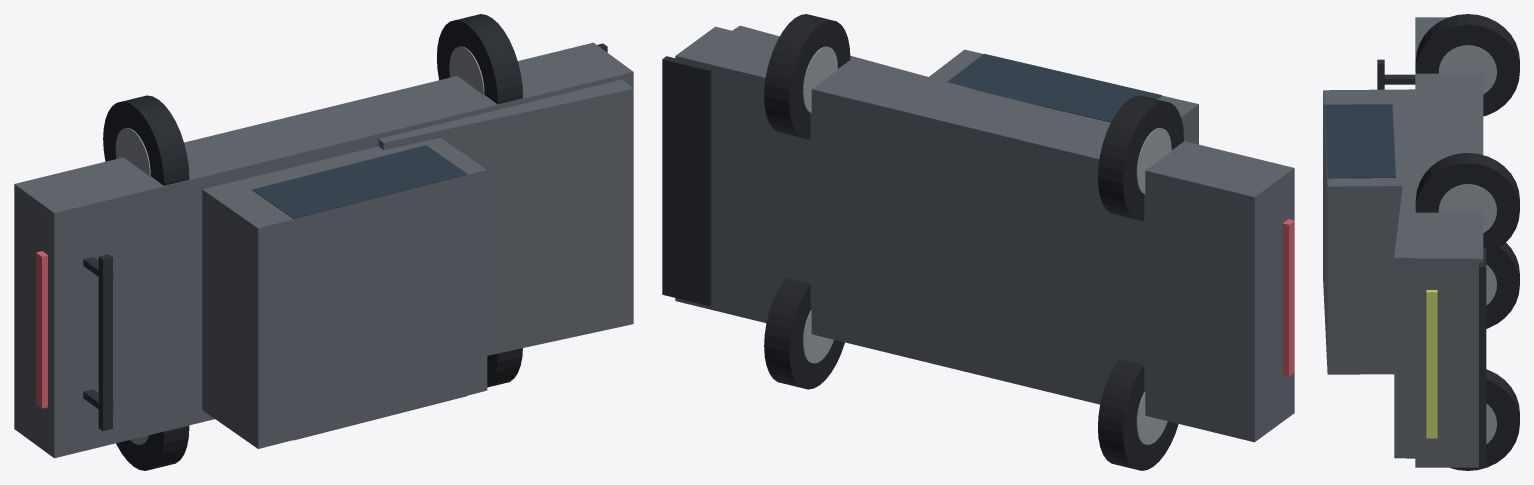
The model's file is sport.glb.
3 views of the same model, side by side, from view 1: azimuth 30°, elevation 25°; view 2: azimuth 150°, elevation 25°; view 3: azimuth 270°, elevation 25° (orthographic). The views are drawn at different scales.
Visible parts, largest first — view 1: part2, part0, part1, part3, part6, part10, part15, part4, part13, part8, part11, part7; view 2: part0, part14, part3, part6, part10, part4, part8, part13, part2, part7, part11, part5 (+2 smaller); view 3: part0, part2, part1, part3, part6, part10, part8, part4, part12, part14, part7, part11 (+4 smaller).
Part boxes in pixels (box(x1,y1,x2,y2)): part2: box(202, 138, 487, 448); part0: box(14, 42, 633, 458); part1: box(378, 79, 633, 355); part3: box(252, 145, 467, 440); part6: box(103, 95, 189, 185); part10: box(437, 14, 522, 104); part15: box(98, 254, 112, 431); part4: box(116, 425, 189, 470); part13: box(36, 251, 47, 408); part8: box(487, 348, 522, 387); part11: box(449, 46, 484, 94); part7: box(115, 128, 150, 176); part0: box(675, 26, 1294, 442); part14: box(662, 56, 711, 306); part3: box(947, 53, 1161, 122); part6: box(1098, 95, 1183, 220); part10: box(764, 14, 850, 139); part4: box(1098, 359, 1178, 470); part8: box(764, 278, 844, 389); part13: box(1282, 219, 1294, 376); part2: box(929, 49, 1198, 144); part7: box(1136, 128, 1171, 193); part11: box(802, 46, 837, 112); part5: box(1136, 392, 1167, 444); part0: box(1415, 17, 1483, 467); part2: box(1323, 89, 1415, 374); part1: box(1394, 156, 1415, 458); part3: box(1324, 104, 1395, 178); part6: box(1415, 14, 1519, 116); part10: box(1415, 153, 1519, 254); part8: box(1450, 369, 1519, 470); part4: box(1486, 243, 1519, 328); part12: box(1426, 290, 1437, 438); part14: box(1479, 247, 1486, 467); part7: box(1438, 45, 1496, 94); part11: box(1438, 184, 1496, 232).
Size of the model in its own units: 4.74 by 2.74 by 1.59.
